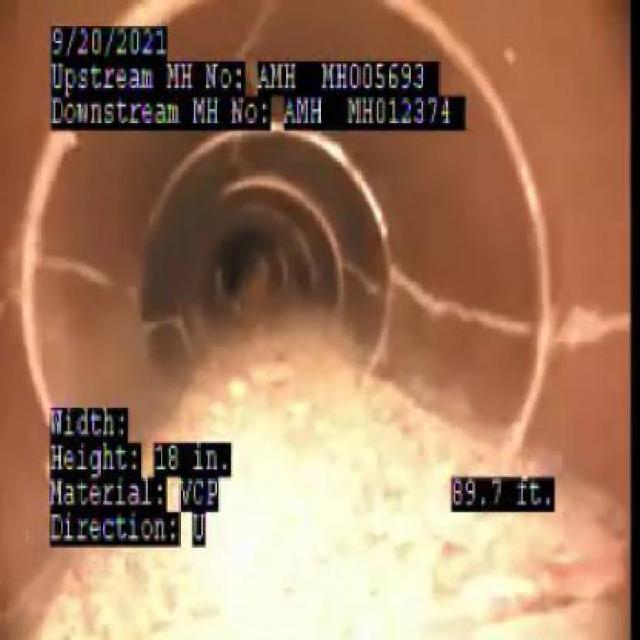Crack: (389, 258, 528, 348), (39, 250, 132, 302)
